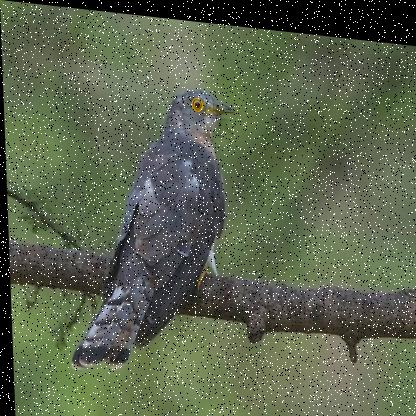Burung: (59, 73, 241, 384)
